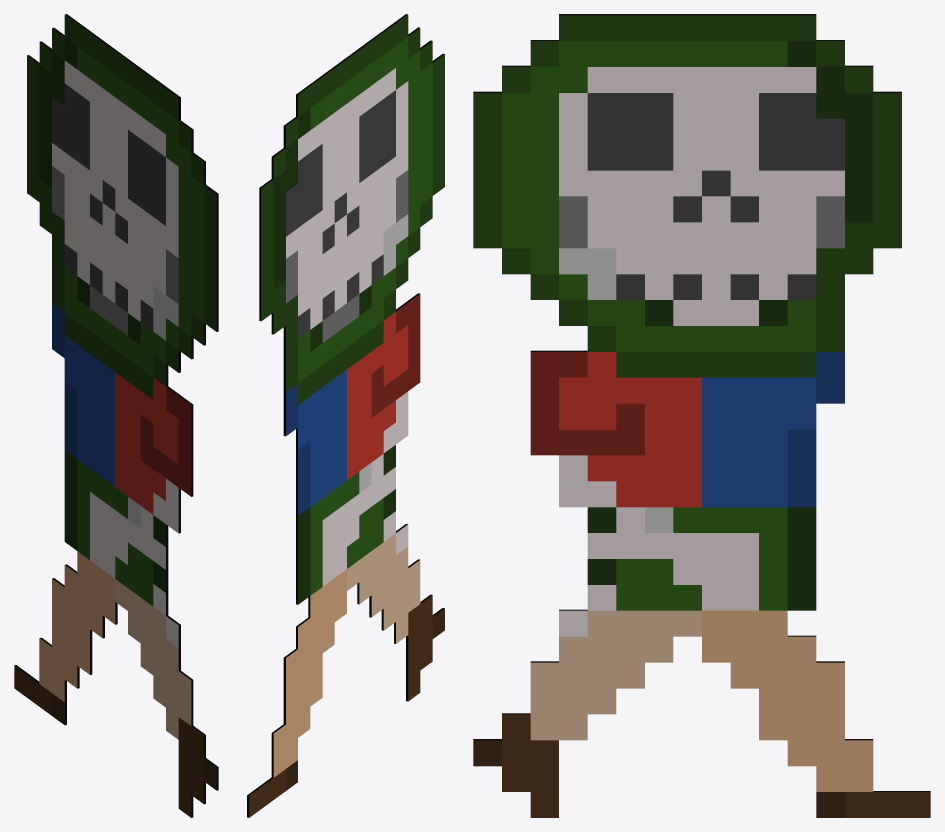
Rendered from Enemy2WC2.fbx.
The picture shows the model from 3 angles, left to right: view 1: azimuth 30°, elevation 25°; view 2: azimuth 150°, elevation 25°; view 3: azimuth 270°, elevation 25°; orthographic projection. The views are drawn at different scales.
Visible parts, largest first — view 1: Cube; view 2: Cube; view 3: Cube.
Boxes of the visible parts, box(x1,y1,x2,y2) form: Cube: box(14, 14, 218, 817); Cube: box(247, 14, 444, 817); Cube: box(473, 14, 930, 817).
Size of the model in its own units: 20 by 6200 by 3200.
